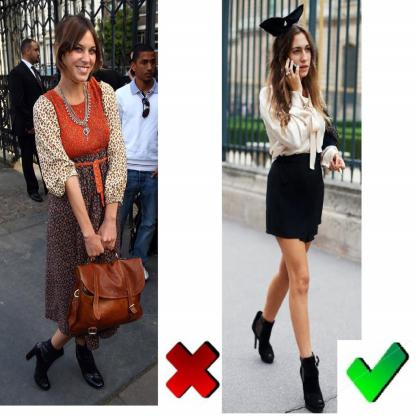face: (63, 31, 97, 82), (290, 38, 312, 78), (136, 54, 157, 82), (29, 45, 41, 64)
